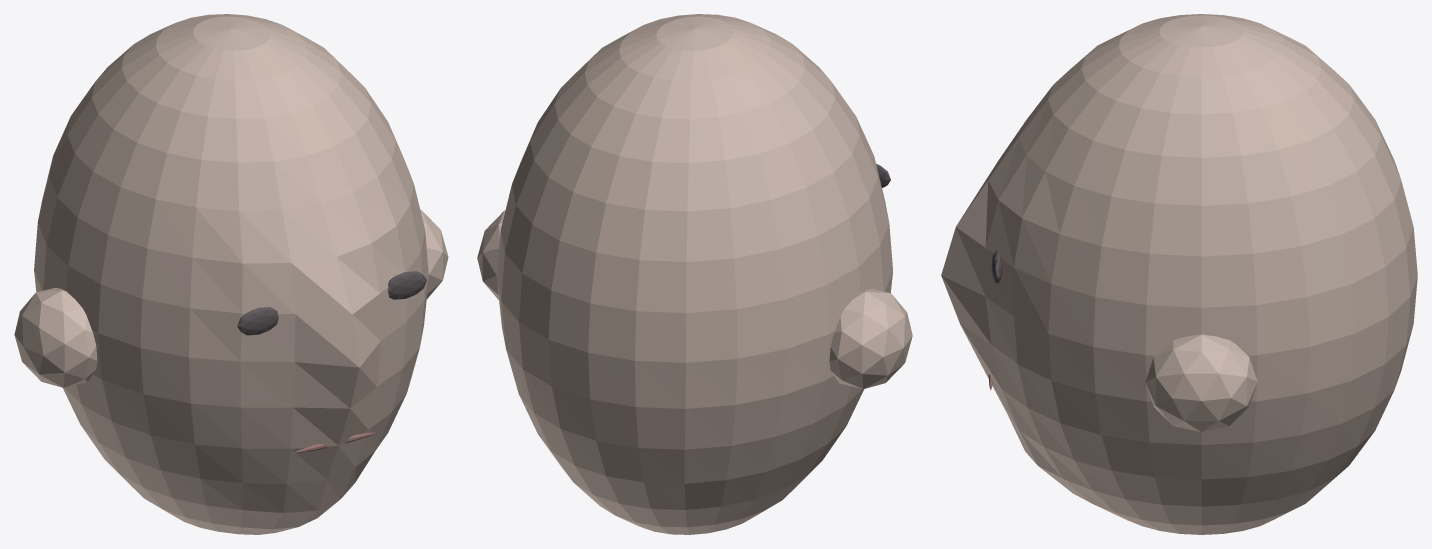
File: masculine.glb
The picture shows the model from 3 angles, left to right: view 1: azimuth 30°, elevation 25°; view 2: azimuth 150°, elevation 25°; view 3: azimuth 270°, elevation 25°; orthographic projection.
Visible parts, largest first — view 1: face.head, face.ear.left, face.ear.right, face.eye.left, face.eye.right; view 2: face.head, face.ear.left, face.ear.right; view 3: face.head, face.ear.right.
Part boxes in pixels (left/top/right/bottom): face.head: left=34, top=14, right=428, bottom=534; face.ear.left: left=14, top=288, right=97, bottom=387; face.ear.right: left=420, top=209, right=448, bottom=298; face.eye.left: left=237, top=307, right=278, bottom=335; face.eye.right: left=388, top=271, right=426, bottom=299; face.head: left=497, top=14, right=892, bottom=534; face.ear.left: left=829, top=289, right=912, bottom=389; face.ear.right: left=477, top=210, right=505, bottom=299; face.head: left=941, top=14, right=1417, bottom=534; face.ear.right: left=1145, top=334, right=1257, bottom=432.
Bounding box in the file's own units: 0.21 × 0.236 × 0.2049.
